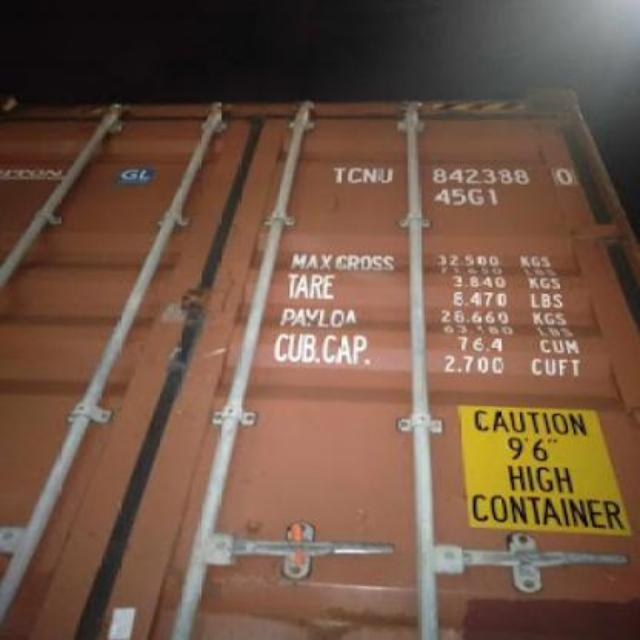0: (554, 168, 576, 186)
2: (464, 168, 480, 184)
3: (482, 168, 496, 186)
4: (448, 168, 464, 185)
8: (512, 168, 530, 186), (432, 167, 448, 185), (497, 167, 513, 185)
C: (348, 167, 362, 185)
N: (362, 166, 378, 184)
T: (332, 166, 346, 186)
U: (378, 166, 394, 184)
